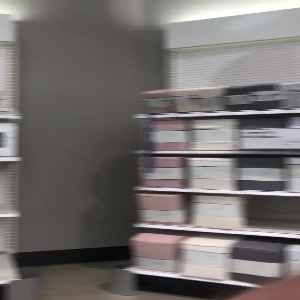void: (246, 197, 300, 232)
